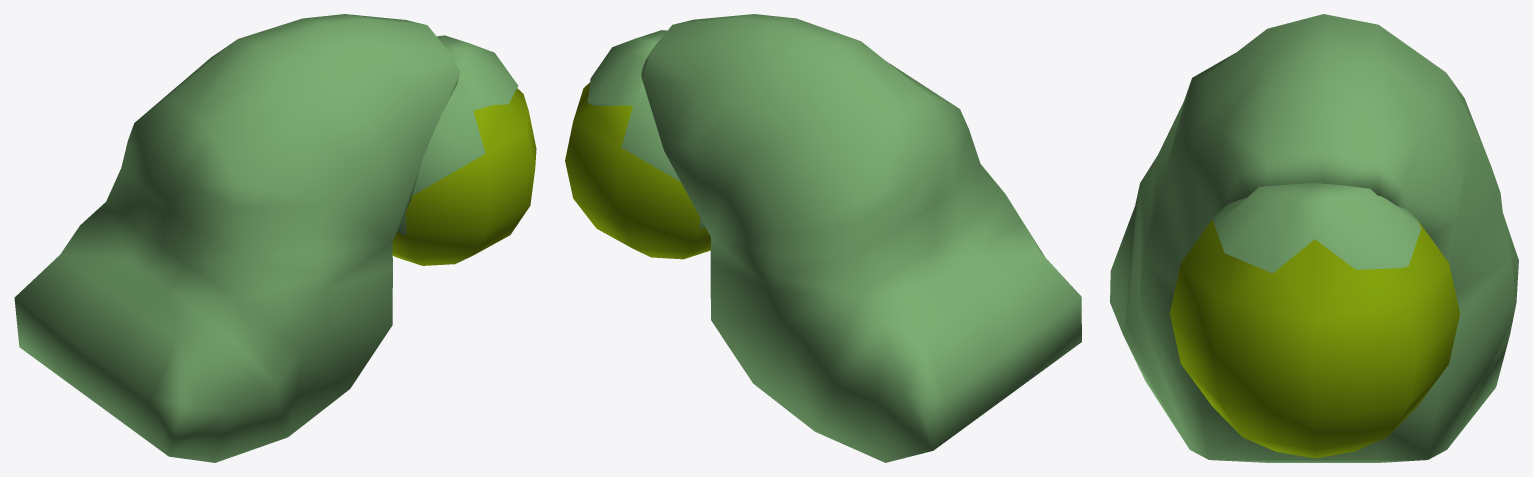
The model's file is Taurus_Orb.fbx.
3 views of the same model, side by side, from view 1: azimuth 30°, elevation 25°; view 2: azimuth 150°, elevation 25°; view 3: azimuth 270°, elevation 25° (orthographic). The views are drawn at different scales.
Visible parts, largest first — view 1: Tau_Hair, Tau_Head; view 2: Tau_Hair, Tau_Head; view 3: Tau_Hair, Tau_Head.
Part boxes in pixels (x1,y1,x2,y2): Tau_Hair: (14, 14, 460, 462); Tau_Head: (392, 35, 536, 265); Tau_Hair: (640, 14, 1081, 462); Tau_Head: (565, 30, 710, 259); Tau_Hair: (1110, 14, 1518, 462); Tau_Head: (1170, 182, 1459, 458).
Bounding box in the file's own units: 4.57 × 3.59 × 2.82.
